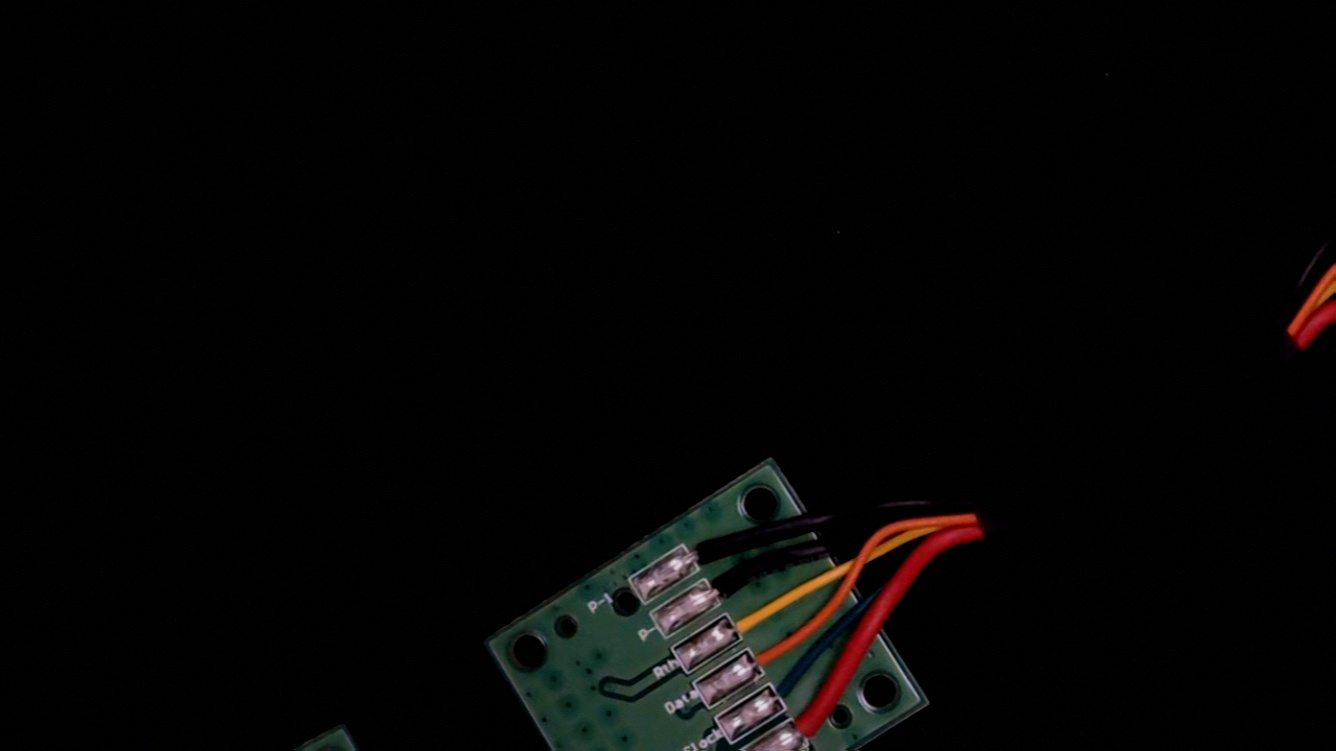Black: (691, 554, 769, 617)
Black1: (666, 516, 744, 582)
Green: (754, 661, 827, 723)
Orange: (732, 628, 801, 686)
Red: (777, 696, 849, 751)
Yellow: (710, 591, 786, 653)
